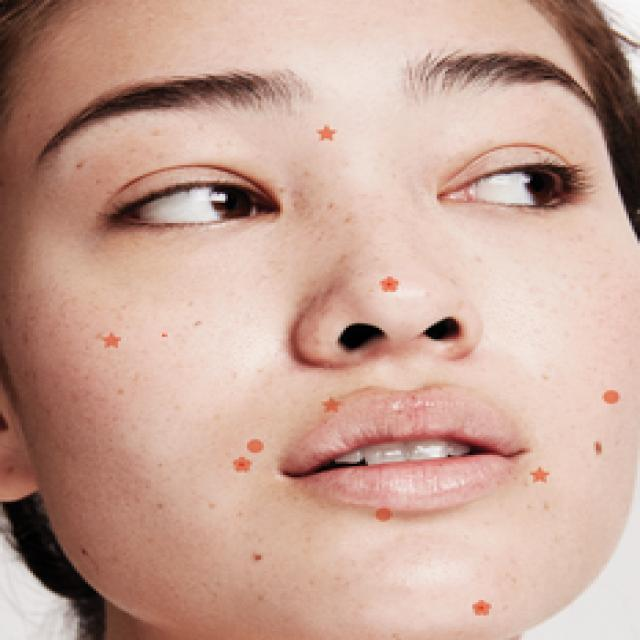blackheads: (313, 120, 338, 143), (99, 332, 121, 350), (231, 457, 247, 477), (593, 439, 610, 457), (382, 274, 398, 292), (604, 388, 621, 404), (374, 506, 390, 522), (247, 437, 264, 451), (321, 397, 338, 410), (533, 471, 549, 482), (478, 607, 492, 613), (472, 598, 480, 608)
